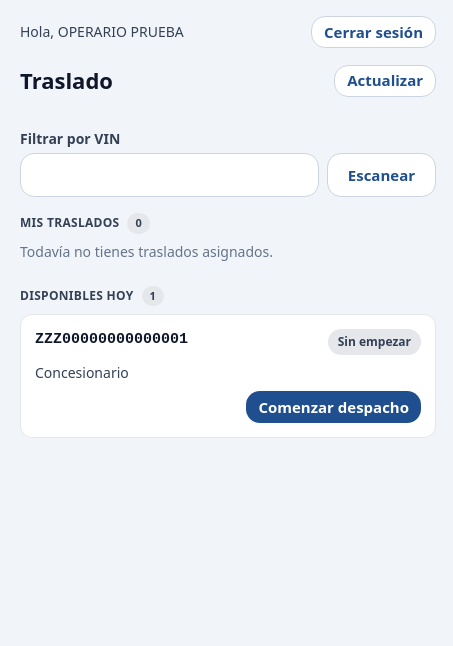
it: los mensajes de cada caso › AC3 · 200 con lista vacía: «sin orden pendiente», un mensaje distinto del 404
The width and height of the screenshot is (453, 646).
Step 1. Type "LSCABN3E2VE840638" into the search field labelled "Filtrar por VIN" → coordinates (169, 175), box [20, 153, 319, 197]
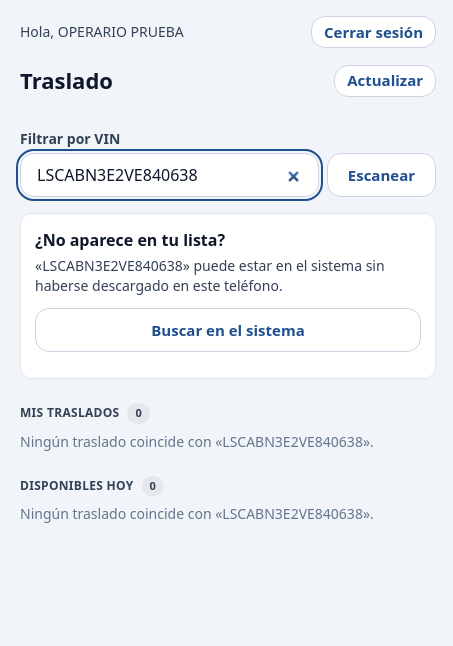
Step 2. Click the button "Buscar en el sistema" → coordinates (228, 330), box [35, 308, 421, 352]
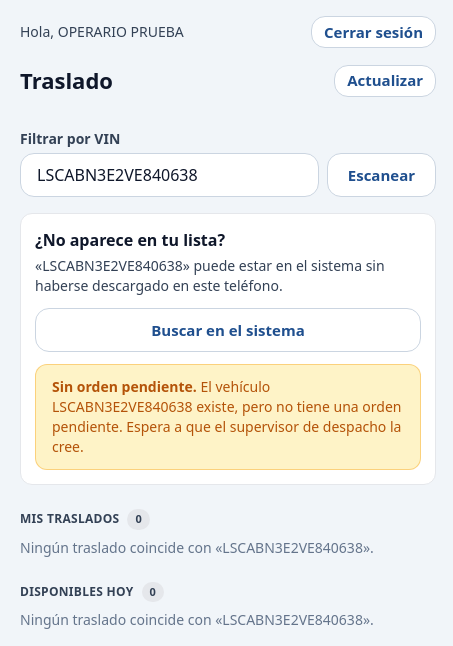
Expected: the text "Sin orden pendiente." is shown, [52, 377, 197, 396]
Expected: the text "Espera a que el supervisor de despacho la cree" is shown, [52, 397, 402, 456]
